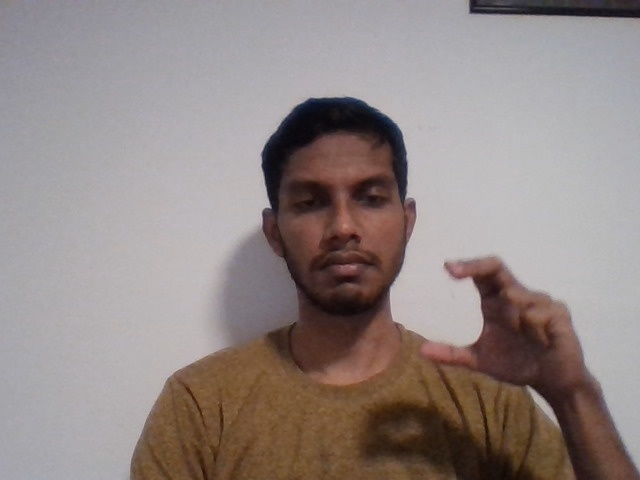no: (413, 248, 608, 425)
